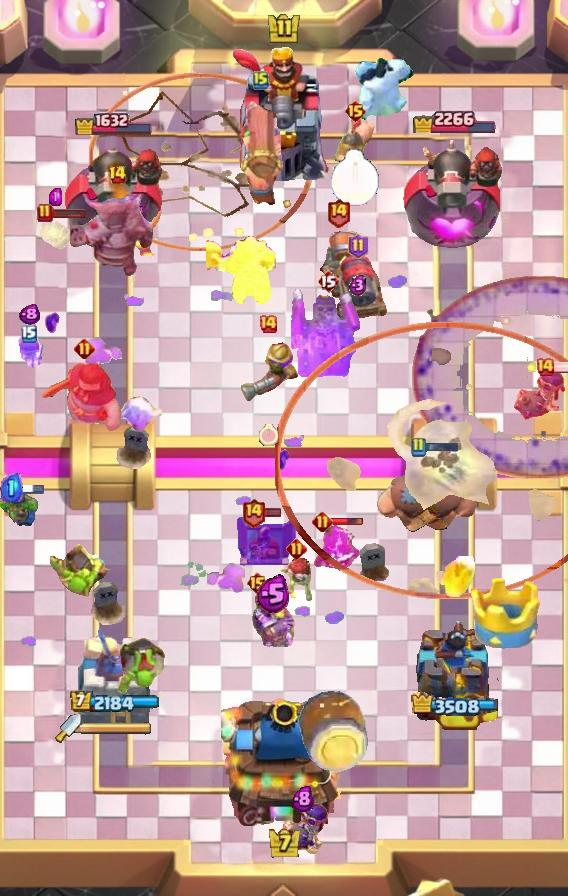balloon: (374, 449, 480, 539)
bar: (75, 623, 153, 731)
bar-level: (117, 635, 167, 695)
battle-healer: (237, 93, 285, 207)
bomb-tower: (236, 339, 300, 405)
dirt: (297, 689, 373, 773)
electro-spirit: (256, 574, 290, 614), (1, 474, 23, 503), (292, 784, 314, 812), (20, 303, 41, 324), (349, 274, 367, 296), (50, 188, 63, 206)
elixir: (330, 149, 380, 207), (258, 424, 278, 446)
emote: (10, 483, 47, 497), (51, 207, 87, 219), (424, 442, 460, 454), (330, 517, 364, 527), (262, 507, 281, 518), (552, 361, 567, 373)
executioner: (334, 118, 376, 168)
firecracker-evolution: (251, 587, 296, 649)
freeze: (206, 235, 278, 305)
giant-snowball: (0, 488, 42, 528)
goblin: (15, 331, 45, 371)
goblin-ball: (512, 367, 568, 423), (276, 801, 330, 857)
golemite: (69, 190, 165, 276)
guard: (89, 73, 313, 252)
ice-golem: (277, 558, 315, 604)
ice-spirit-evolution: (35, 209, 75, 253)
ice-spirit-evolution-symbol: (234, 514, 298, 568)
king-tower: (221, 690, 347, 826), (230, 45, 338, 181)
king-tower-bar: (81, 721, 153, 735)
knight: (313, 228, 363, 292)
mirror: (116, 395, 166, 433)
queen-tower: (405, 617, 501, 731)
rage: (354, 58, 414, 124)
rocket: (412, 275, 568, 479)
royal-ghost: (276, 322, 568, 599)
royal-giant-evolution: (329, 253, 387, 323)
royal-hog: (42, 360, 126, 436)
selected: (410, 103, 496, 132), (410, 691, 499, 716), (69, 690, 159, 714), (74, 110, 154, 135)
skeleton-king-bar: (291, 289, 365, 377)
spear-goblin: (310, 524, 362, 578)
text: (325, 196, 350, 227), (241, 497, 266, 528), (345, 99, 368, 123), (246, 571, 269, 595), (348, 233, 369, 259), (317, 269, 339, 293), (73, 337, 94, 359), (286, 537, 307, 559), (311, 511, 332, 532), (258, 314, 278, 334), (535, 357, 555, 377), (108, 165, 127, 185), (253, 70, 269, 90), (37, 203, 53, 223), (410, 437, 426, 457), (21, 325, 37, 343)
tower-bar: (401, 132, 508, 256), (63, 138, 164, 256)
valkyrie: (439, 556, 477, 602)
x-bow: (49, 542, 111, 598)
